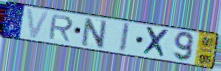9: (172, 31, 196, 63)
I: (118, 21, 132, 54)
N: (81, 16, 109, 50)
R: (47, 14, 75, 43)
V: (25, 8, 51, 40)
X: (141, 26, 171, 60)
